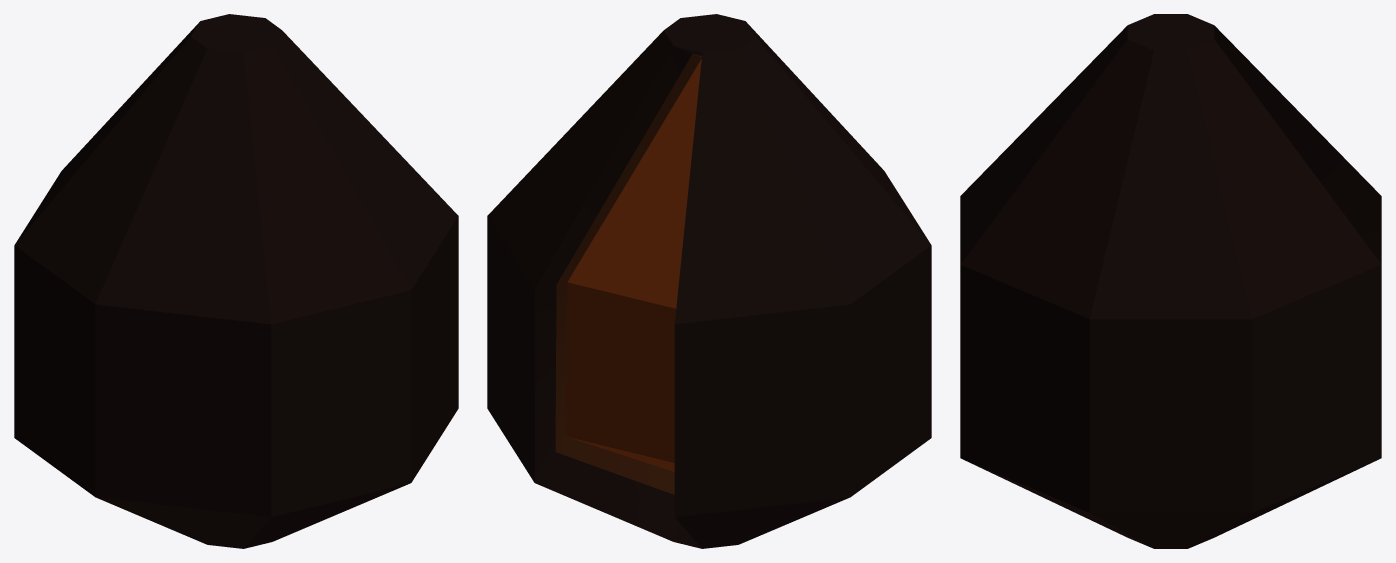
The model's file is Seed.FBX.
3 views of the same model, side by side, from view 1: azimuth 30°, elevation 25°; view 2: azimuth 150°, elevation 25°; view 3: azimuth 270°, elevation 25° (orthographic).
Visible parts, largest first — view 1: Seed; view 2: Seed; view 3: Seed.
Part boxes in pixels (x1=…): Seed: x1=14, y1=14, x2=458, y2=548; Seed: x1=487, y1=14, x2=931, y2=548; Seed: x1=960, y1=14, x2=1381, y2=548.
Size of the model in its own units: 5.7 by 7.45 by 5.7.
